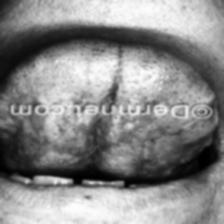Non-Cancerous Skin Condition: (33, 120, 143, 172)
